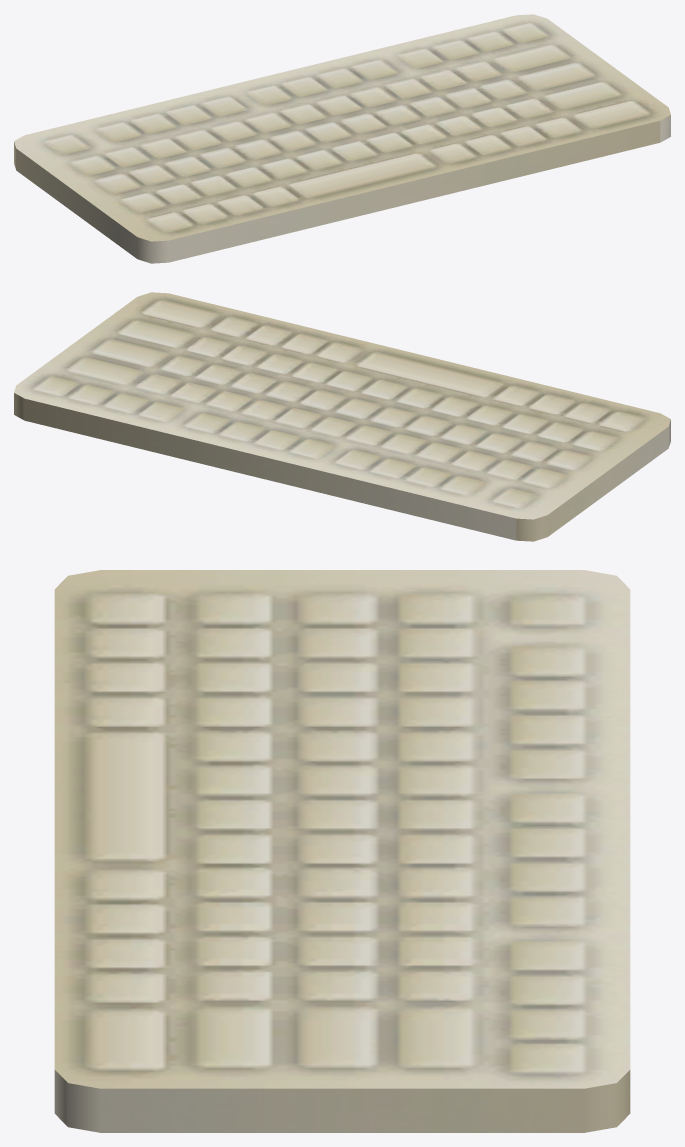
File: ButtonBoard_Relic.fbx
The picture shows the model from 3 angles, top to bottom: view 1: azimuth 30°, elevation 25°; view 2: azimuth 150°, elevation 25°; view 3: azimuth 270°, elevation 25°; orthographic projection. The views are drawn at different scales.
Parts seen in each view (by area): view 1: Relic_CD; view 2: Relic_CD; view 3: Relic_CD.
Part boxes in pixels (x1,y1,x2,y2): Relic_CD: (14,14,670,263); Relic_CD: (14,292,670,541); Relic_CD: (54,570,630,1132).
Size of the model in its own units: 1.24 by 0.0491 by 0.5795.
